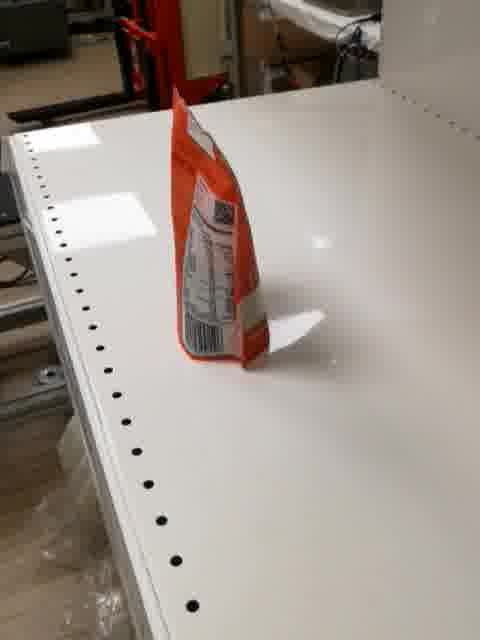whitechia: (167, 79, 275, 373)
